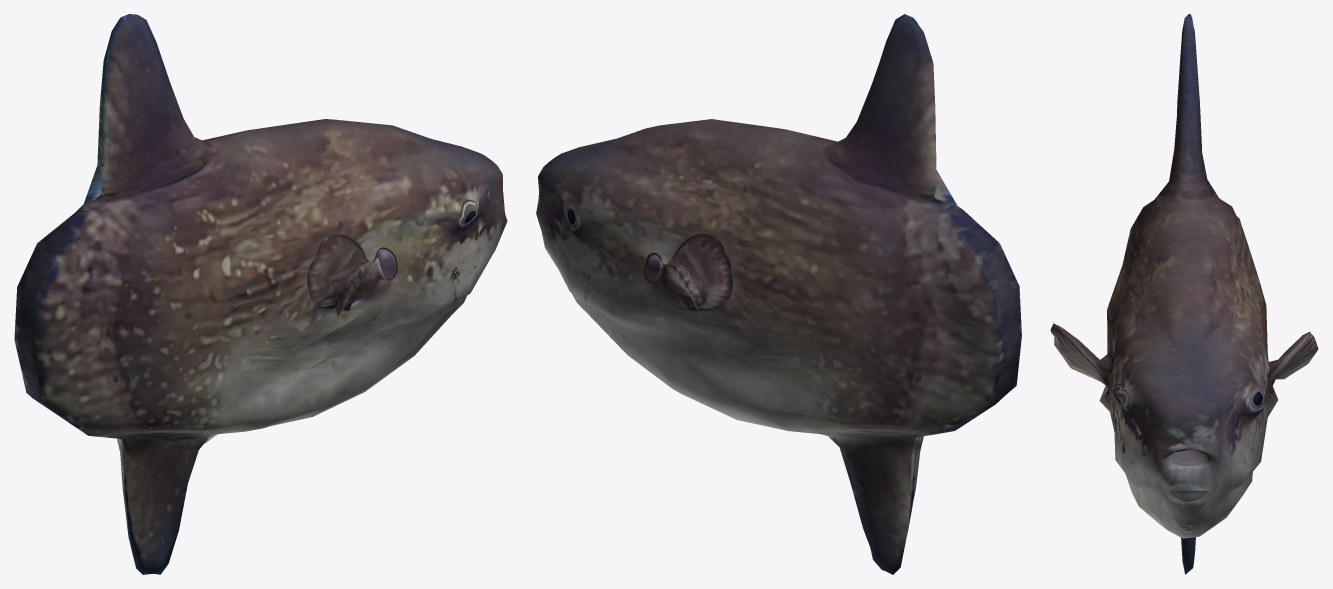
File: mola.glb
3 views of the same model, side by side, from view 1: azimuth 30°, elevation 25°; view 2: azimuth 150°, elevation 25°; view 3: azimuth 270°, elevation 25° (orthographic). The views are drawn at different scales.
Parts seen in each view (by area): view 1: tripo_node_fc7b2065; view 2: tripo_node_fc7b2065; view 3: tripo_node_fc7b2065.
Boxes of the visible parts, x1=… form: tripo_node_fc7b2065: x1=14, y1=14, x2=507, y2=574; tripo_node_fc7b2065: x1=536, y1=14, x2=1021, y2=574; tripo_node_fc7b2065: x1=1050, y1=14, x2=1318, y2=574.
Size of the model in its own units: 84.3 by 96.85 by 43.17.
1 material, 1 textured.
